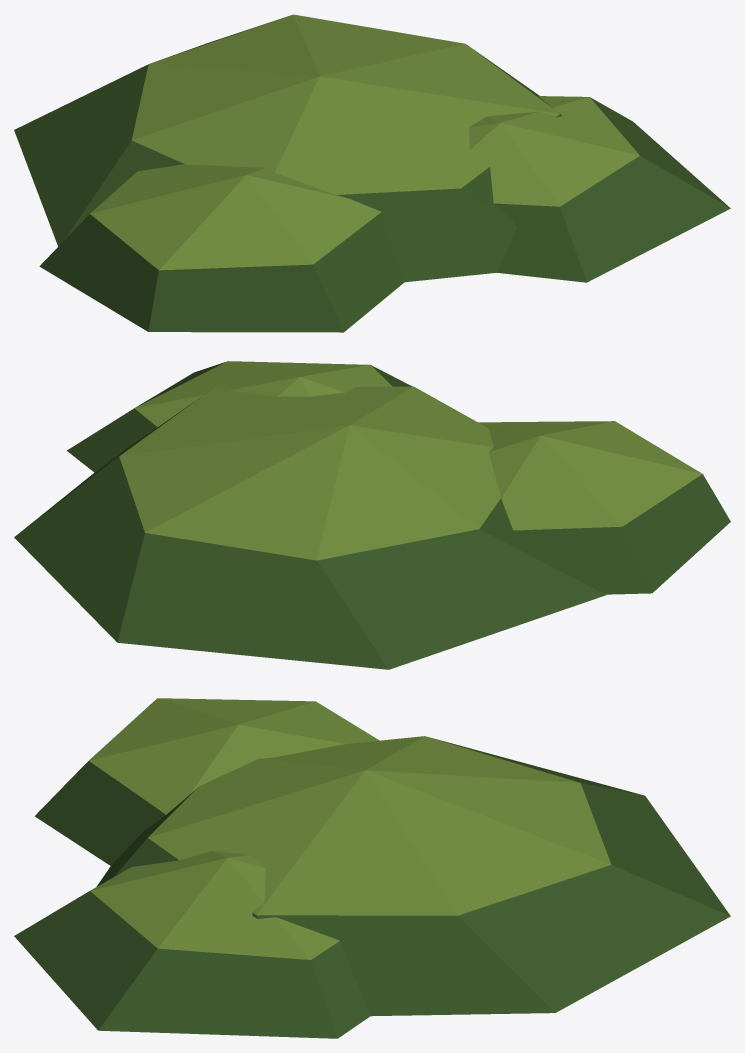
The model's file is gf_moss_d.glb.
3 views of the same model, one above another, from view 1: azimuth 30°, elevation 25°; view 2: azimuth 150°, elevation 25°; view 3: azimuth 270°, elevation 25° (orthographic). The views are drawn at different scales.
Visible parts, largest first — view 1: gf_moss_d; view 2: gf_moss_d; view 3: gf_moss_d.
Boxes of the visible parts, box(x1,y1,x2,y2) form: gf_moss_d: box(14, 14, 730, 332); gf_moss_d: box(14, 361, 730, 669); gf_moss_d: box(14, 698, 730, 1038).
Size of the model in its own units: 0.1946 by 0.034 by 0.1932.
